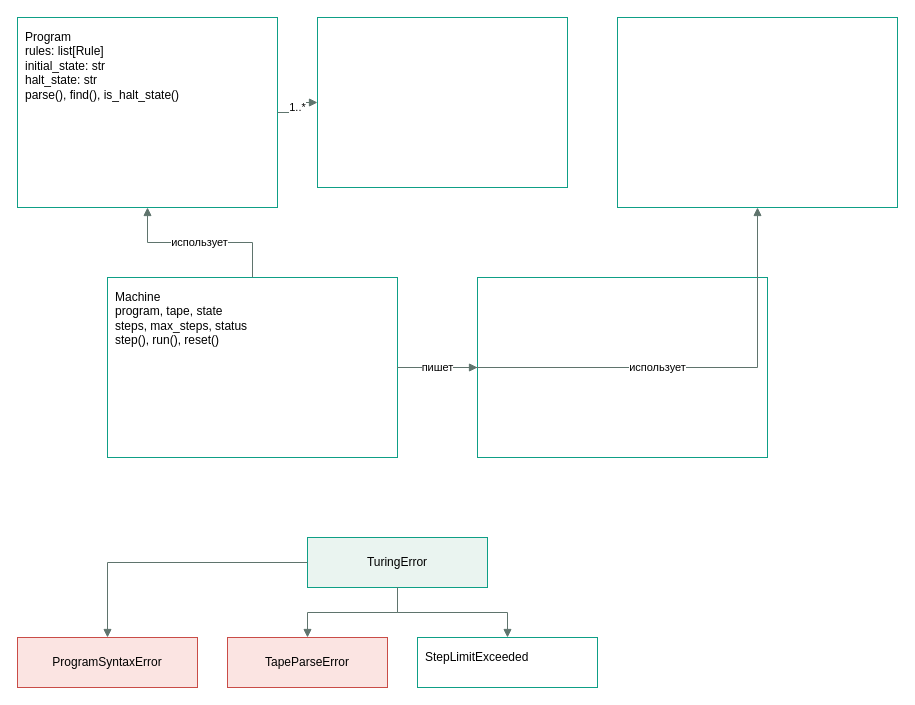
This 915x705 diagram has some shape labels left out. The shapes that lost their labels are listed below. From the top down, each one's centre as x and y in pixels, then its label:
pixel 442 102: Rule state, read, write move, next_state line_number
pixel 757 112: Tape cells: dict[int, str] head: int read(), write(), move(), copy()
pixel 622 367: TraceEntry step, state_before read_symbol, write_symbol move, state_after, note
